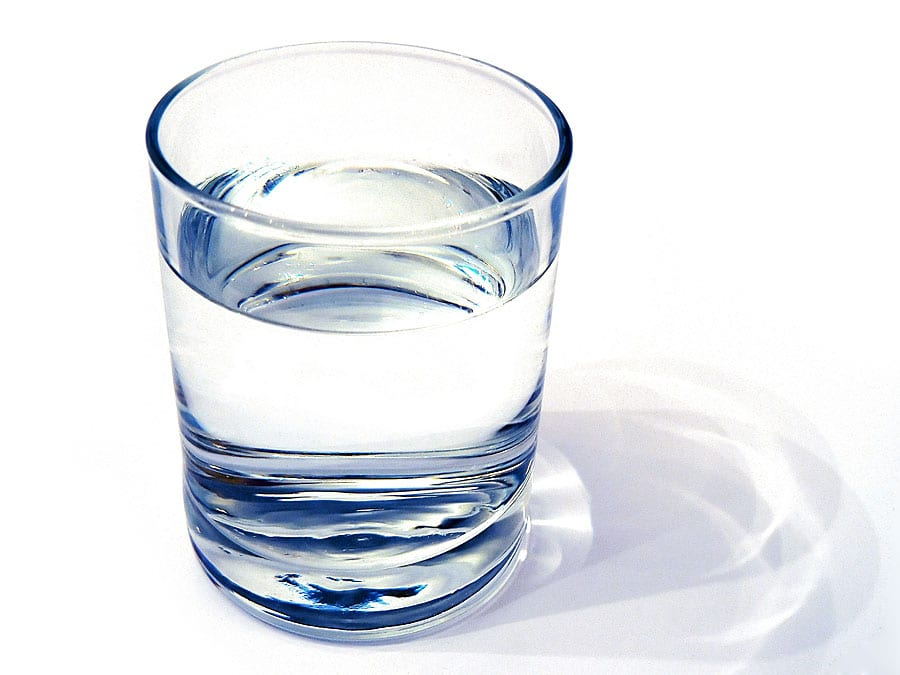glass of water: (198, 135, 513, 591)
